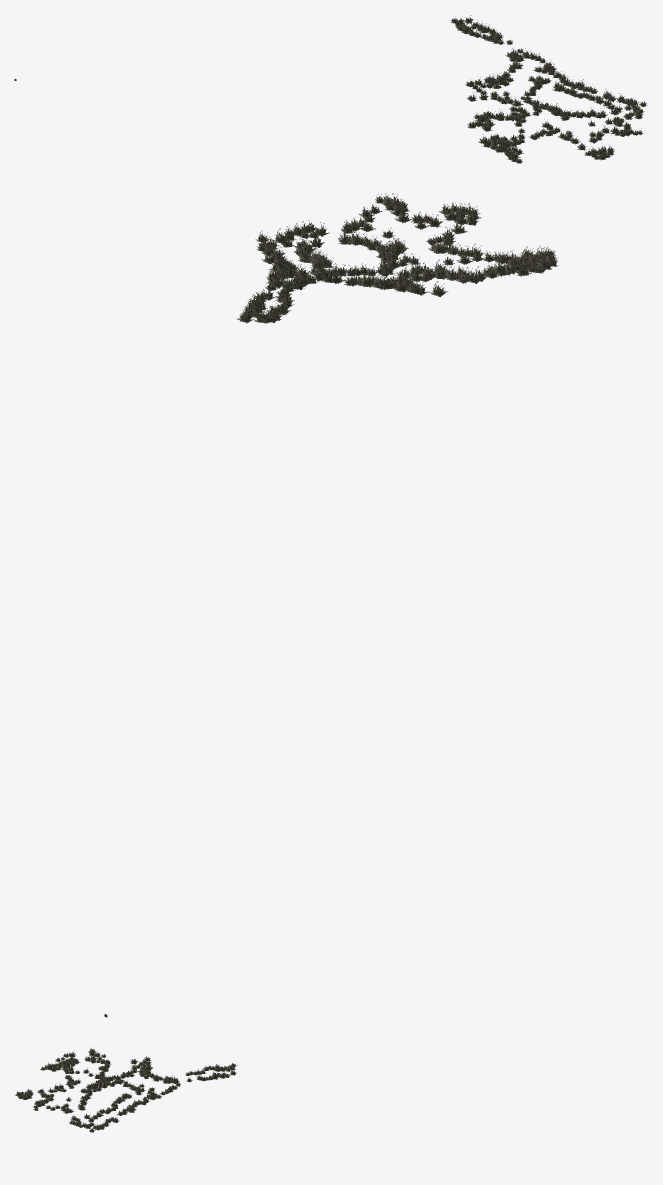
File: grass03.fbx
3 renders of one model, top to bottom at view 1: azimuth 30°, elevation 25°; view 2: azimuth 150°, elevation 25°; view 3: azimuth 270°, elevation 25°, orthographic. The views are drawn at different scales.
Visible parts, largest first — view 1: m001206_0:3, m001206_0:1, m001206_0:6, m001206_0:5, m001206_0:4; view 2: m001206_0:3, m001206_0:6, m001206_0:1, m001206_0:5, m001206_0:4; view 3: m001206_0:3, m001206_0:1, m001206_0:6, m001206_0:5, m001206_0:4.
Boxes of the visible parts, <box> form: m001206_0:3: <box>478,115,643,163</box>; m001206_0:1: <box>505,48,607,120</box>; m001206_0:6: <box>465,71,542,131</box>; m001206_0:5: <box>552,81,647,119</box>; m001206_0:4: <box>451,15,513,44</box>; m001206_0:3: <box>341,193,558,273</box>; m001206_0:6: <box>344,252,531,297</box>; m001206_0:1: <box>265,229,408,289</box>; m001206_0:5: <box>255,220,333,269</box>; m001206_0:4: <box>237,278,295,323</box>; m001206_0:3: <box>14,1050,81,1113</box>; m001206_0:1: <box>77,1074,180,1115</box>; m001206_0:6: <box>83,1048,154,1085</box>; m001206_0:5: <box>69,1092,132,1132</box>; m001206_0:4: <box>185,1063,237,1082</box>.
Size of the model in its own units: 214403 by 171758 by 579726.
6 materials, 6 textured.
